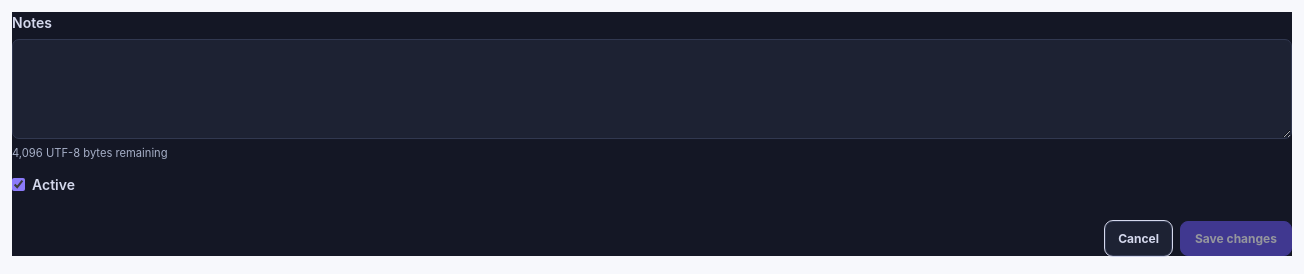
Test case: field-level editor › sends only changed fields and counts UTF-8 bytes
Later steps or results of the test are not shown.
Type "é" into the text box labelled "Notes". click: (652, 89)
box: [12,39,1292,139]
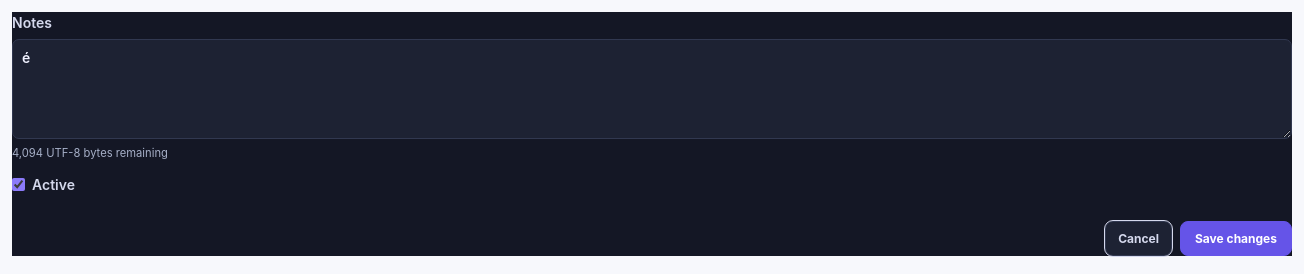
Result: the text "4,094 UTF-8 bytes remaining" is shown at [12,146,168,160]
